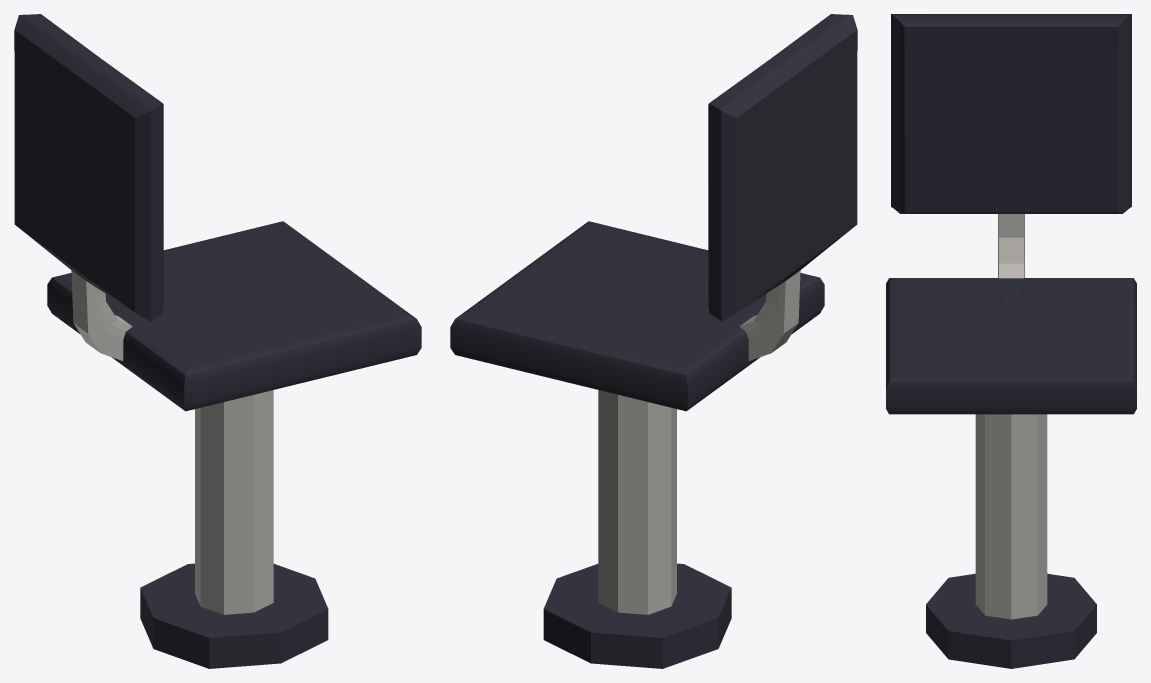
File: Chair.fbx
3 renders of one model, left to right at view 1: azimuth 30°, elevation 25°; view 2: azimuth 150°, elevation 25°; view 3: azimuth 270°, elevation 25°, orthographic. The views are drawn at different scales.
Visible parts, largest first — view 1: Chair; view 2: Chair; view 3: Chair.
Boxes of the visible parts, x1,y1,x2,y2 form: Chair: [14, 14, 421, 668]; Chair: [450, 14, 857, 668]; Chair: [886, 14, 1136, 668].
Bounding box in the file's own units: 0.5208 × 1.08 × 0.444.
